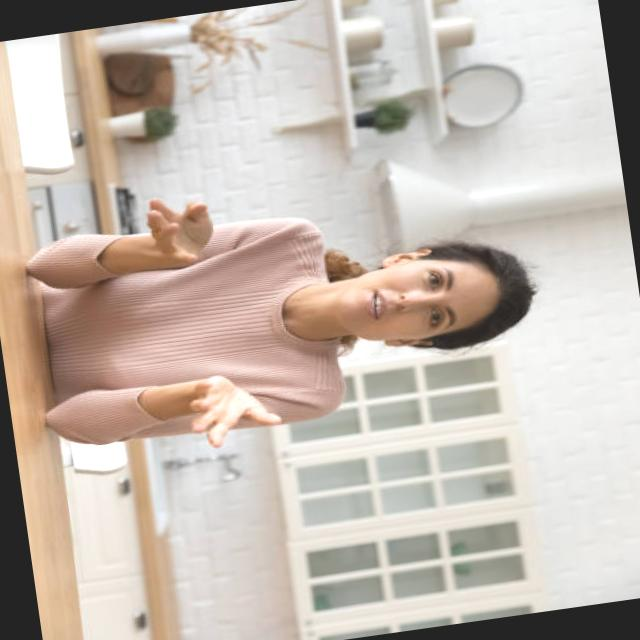Hand: (168, 364, 292, 458), (132, 189, 224, 280)
